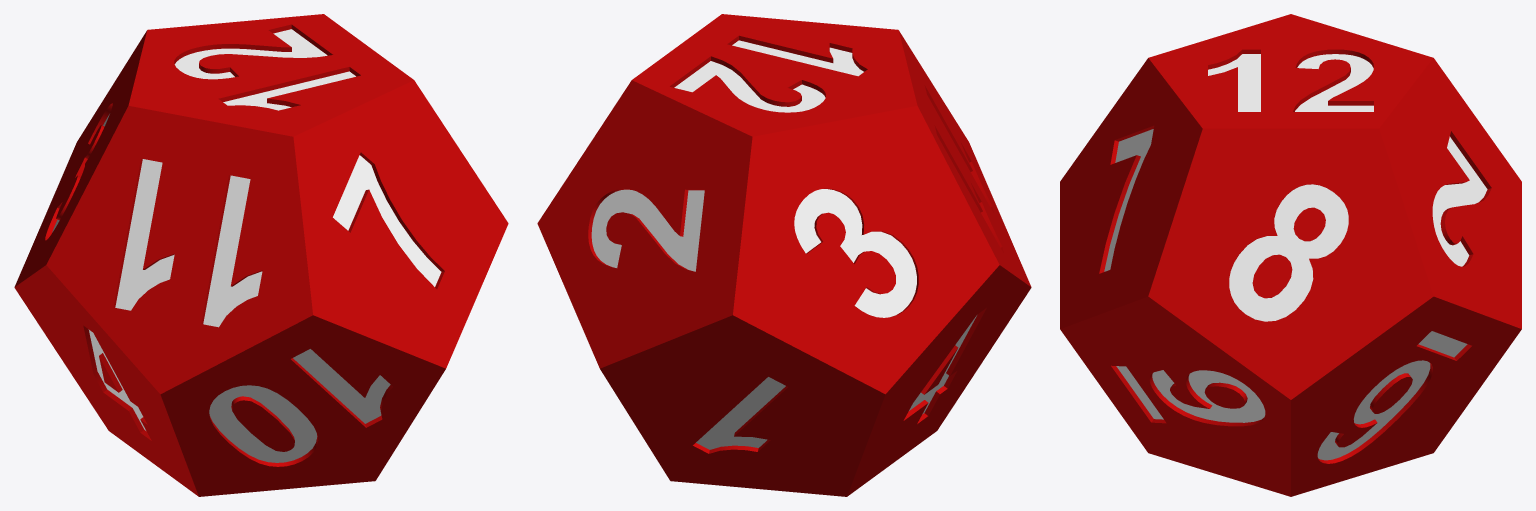
Rendered from Game_Dice_D12_Red_01.fbx.
The picture shows the model from 3 angles, left to right: view 1: azimuth 30°, elevation 25°; view 2: azimuth 150°, elevation 25°; view 3: azimuth 270°, elevation 25°; orthographic projection. The views are drawn at different scales.
Parts seen in each view (by area): view 1: Game_Dice_D12_Red_01; view 2: Game_Dice_D12_Red_01; view 3: Game_Dice_D12_Red_01.
Part boxes in pixels (bbox=[...]): Game_Dice_D12_Red_01: bbox=[14, 14, 508, 496]; Game_Dice_D12_Red_01: bbox=[537, 14, 1031, 496]; Game_Dice_D12_Red_01: bbox=[1060, 14, 1521, 496].
Bounding box in the file's own units: 19.24 × 15.56 × 18.29.
